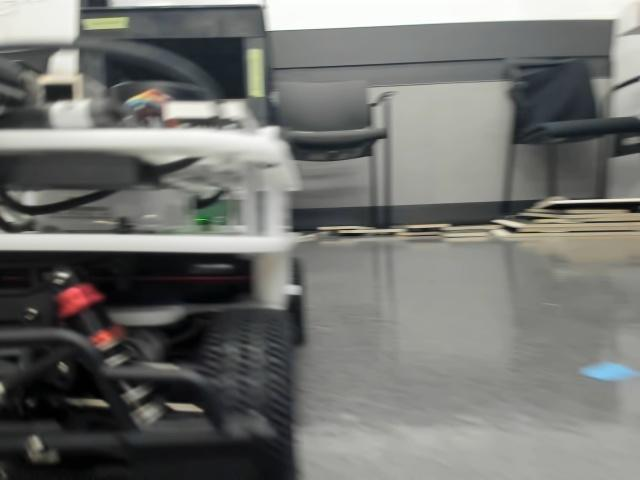Car: (0, 39, 301, 474)
